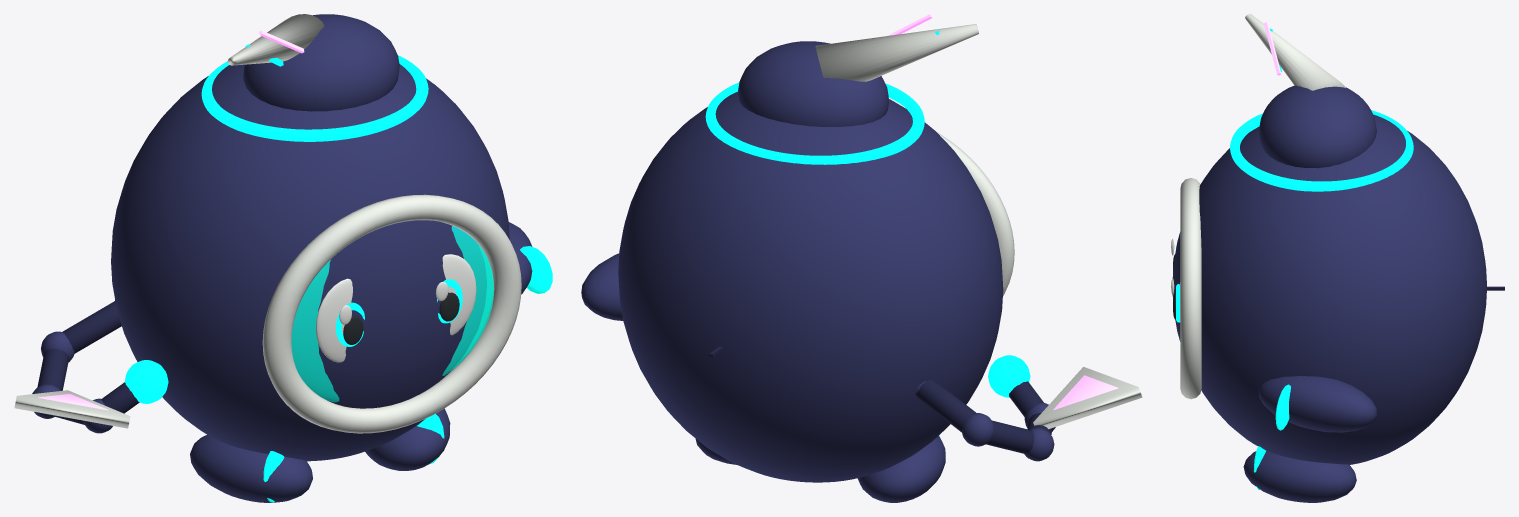
The model's file is CyberOrbCreature.fbx.
The picture shows the model from 3 angles, left to right: view 1: azimuth 30°, elevation 25°; view 2: azimuth 150°, elevation 25°; view 3: azimuth 270°, elevation 25°; orthographic projection. The views are drawn at different scales.
Visible parts, largest first — view 1: CyberOrb_Body, CyberOrb_FaceSilverRing, CyberOrb_TopDome, CyberOrb_GlassFace, CyberOrb_LeftFootPod, CyberOrb_CyanNeckRing, CyberOrb_RightFootPod, CyberOrb_AntennaHorn, CyberOrb_TailArrowSilver, CyberOrb_EyeWhite_-0.24, CyberOrb_EyeWhite_+0.24, CyberOrb_TailSegment_0 (+5 smaller); view 2: CyberOrb_Body, CyberOrb_TopDome, CyberOrb_AntennaHorn, CyberOrb_CyanNeckRing, CyberOrb_LeftFootPod, CyberOrb_TailArrowSilver, CyberOrb_FaceSilverRing, CyberOrb_RightSideFin, CyberOrb_TailSegment_0, CyberOrb_TailGlowJoint, CyberOrb_TailSegment_1, CyberOrb_TailArrowPinkCore (+3 smaller); view 3: CyberOrb_Body, CyberOrb_TopDome, CyberOrb_RightSideFin, CyberOrb_FaceSilverRing, CyberOrb_RightFootPod, CyberOrb_CyanNeckRing, CyberOrb_AntennaHorn, CyberOrb_RightSideCrystal.
Part boxes in pixels (bbox=[...]): CyberOrb_Body: bbox=[111, 64, 509, 461]; CyberOrb_FaceSilverRing: bbox=[262, 194, 521, 433]; CyberOrb_TopDome: bbox=[243, 14, 399, 111]; CyberOrb_GlassFace: bbox=[291, 226, 494, 402]; CyberOrb_LeftFootPod: bbox=[190, 435, 312, 502]; CyberOrb_CyanNeckRing: bbox=[201, 55, 428, 141]; CyberOrb_RightFootPod: bbox=[365, 408, 450, 470]; CyberOrb_AntennaHorn: bbox=[227, 14, 324, 65]; CyberOrb_TailArrowSilver: bbox=[14, 390, 130, 428]; CyberOrb_EyeWhite_-0.24: bbox=[316, 278, 352, 362]; CyberOrb_EyeWhite_+0.24: bbox=[442, 254, 476, 335]; CyberOrb_TailSegment_0: bbox=[62, 301, 121, 353]; CyberOrb_Body: bbox=[618, 91, 1003, 482]; CyberOrb_TopDome: bbox=[738, 41, 888, 127]; CyberOrb_AntennaHorn: bbox=[815, 24, 978, 81]; CyberOrb_CyanNeckRing: bbox=[705, 82, 924, 164]; CyberOrb_LeftFootPod: bbox=[857, 436, 945, 502]; CyberOrb_TailArrowSilver: bbox=[1033, 366, 1142, 429]; CyberOrb_FaceSilverRing: bbox=[937, 132, 1014, 295]; CyberOrb_RightSideFin: bbox=[581, 253, 623, 320]; CyberOrb_TailSegment_0: bbox=[916, 380, 975, 432]; CyberOrb_TailGlowJoint: bbox=[988, 355, 1030, 397]; CyberOrb_TailSegment_1: bbox=[986, 420, 1034, 453]; CyberOrb_TailArrowPinkCore: bbox=[1053, 375, 1118, 410]; CyberOrb_Body: bbox=[1172, 114, 1486, 464]; CyberOrb_TopDome: bbox=[1259, 85, 1376, 168]; CyberOrb_RightSideFin: bbox=[1258, 376, 1377, 432]; CyberOrb_FaceSilverRing: bbox=[1180, 178, 1201, 399]; CyberOrb_RightFootPod: bbox=[1243, 451, 1356, 502]; CyberOrb_CyanNeckRing: bbox=[1230, 110, 1413, 191]; CyberOrb_AntennaHorn: bbox=[1245, 14, 1345, 90]; CyberOrb_RightSideCrystal: bbox=[1275, 384, 1290, 430].
Size of the model in its own units: 269 by 230 by 170.
